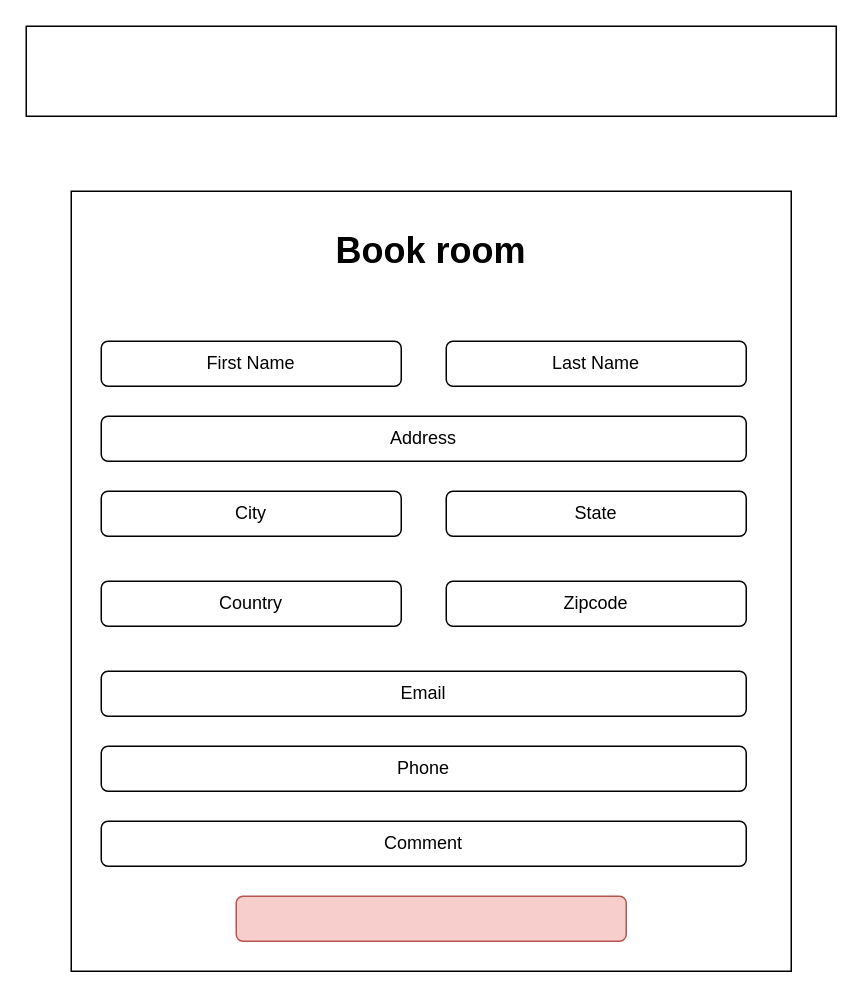
The diagram is 863 pixels wide and 998 high, and some of its shapes have lost their labels. The shapes that lost their labels are listed below. From the top down, each one's centre as x and y in pixels, then its label:
[430,70]: Hotel name
[430,918]: Submit
